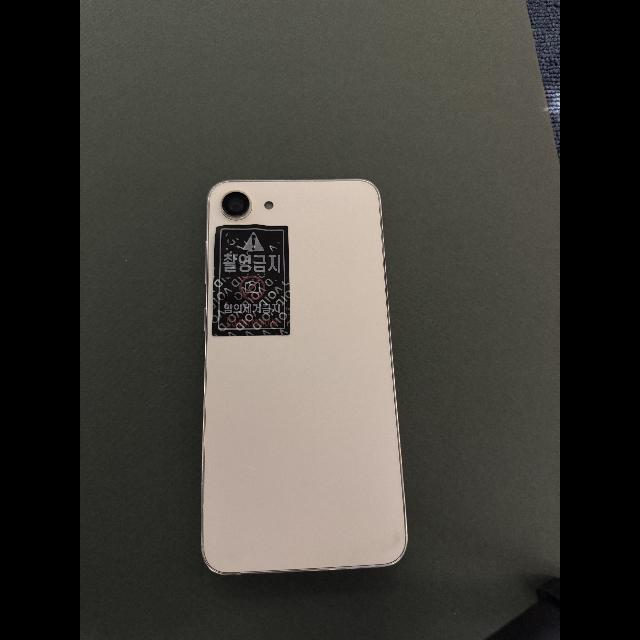lens: (221, 190, 251, 218)
phone: (202, 180, 407, 574)
sticker: (212, 225, 291, 337)
